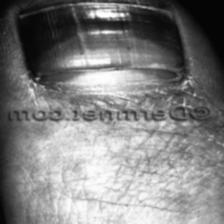Toxin: (0, 0, 208, 90)
